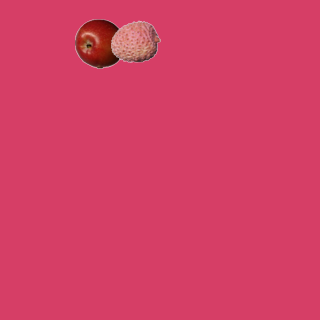Apple Braeburn: (74, 18, 124, 68)
Lychee: (110, 16, 160, 66)
